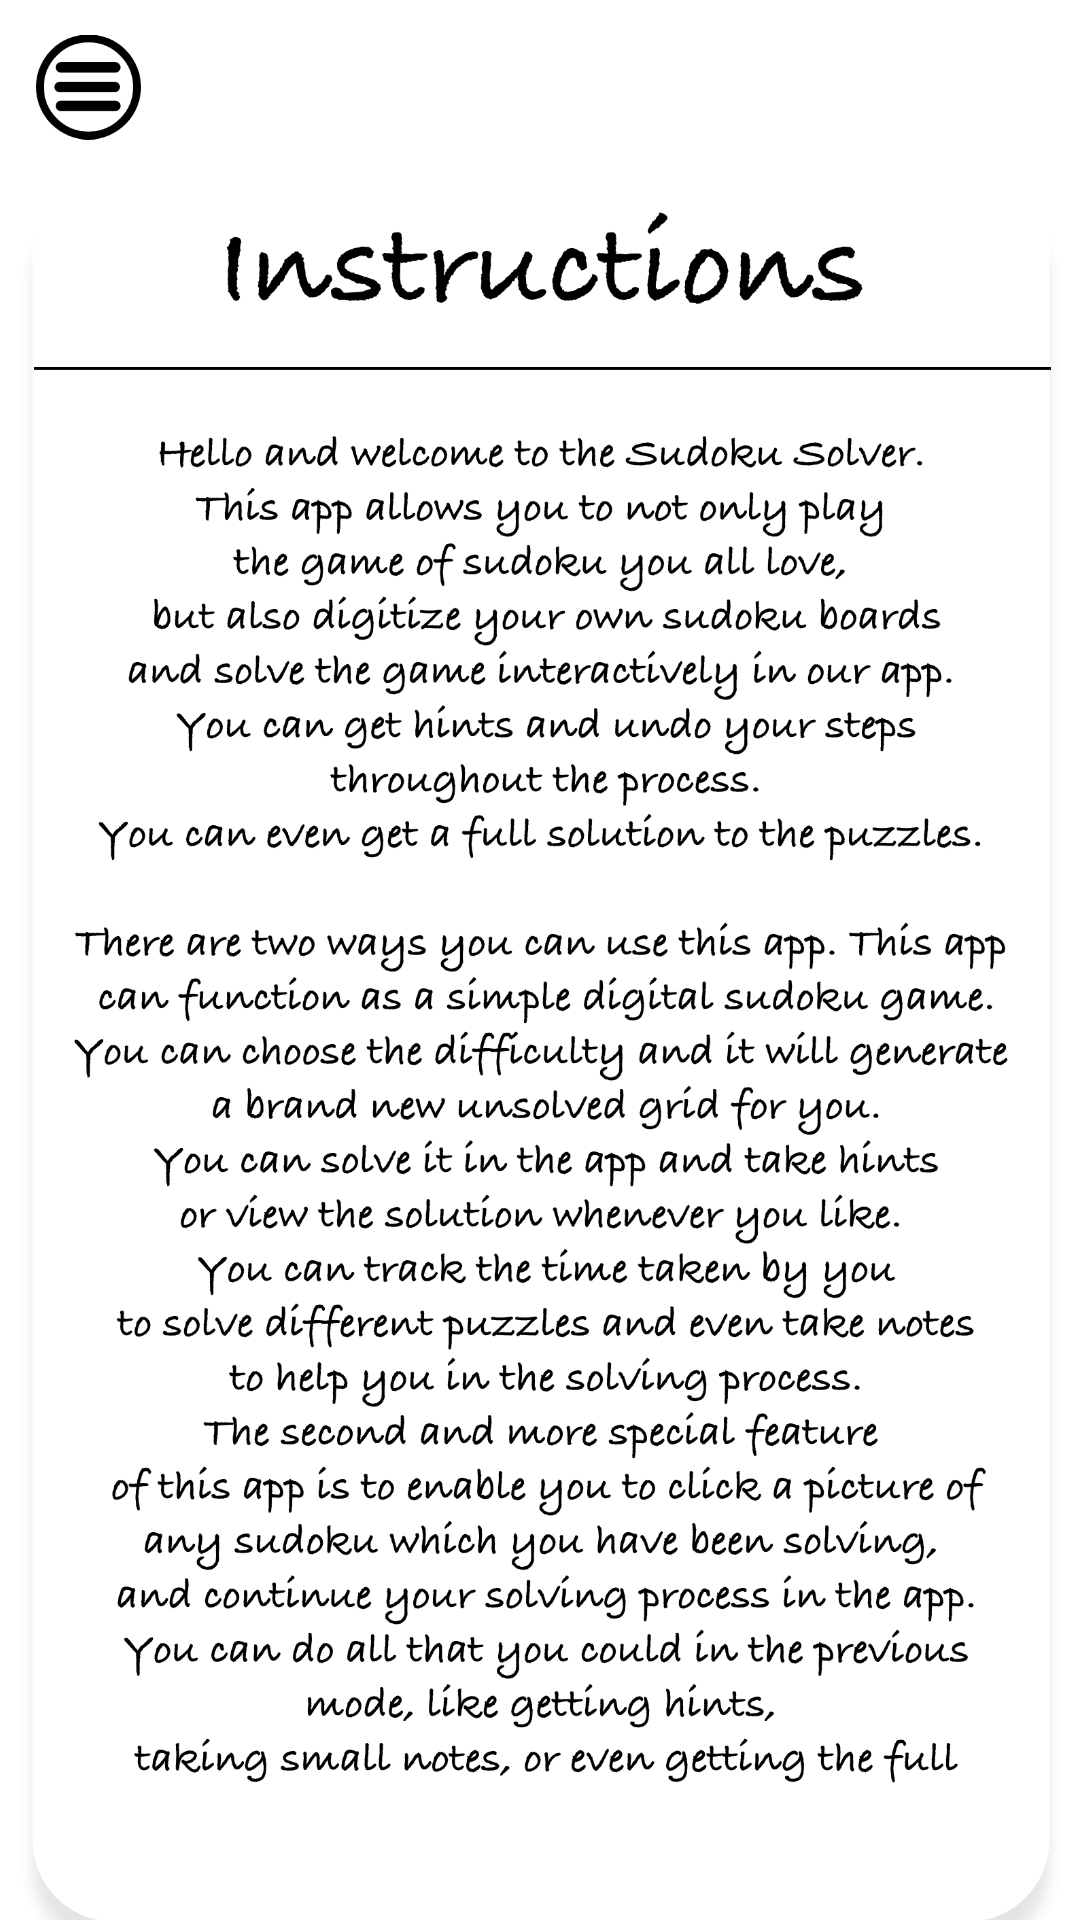

Icons on this 1080*1920 Android screen, each with the point to tap as (x,y):
backmenu: (88,87)
